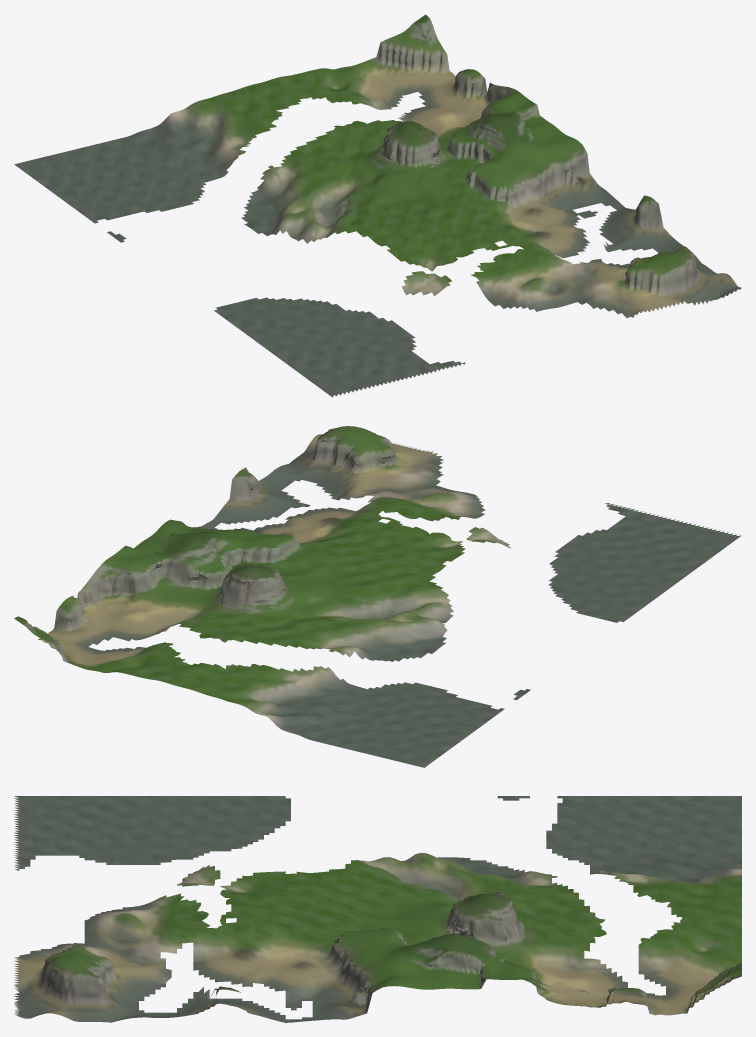
File: coast_tile_x0z1.glb
3 views of the same model, one above another, from view 1: azimuth 30°, elevation 25°; view 2: azimuth 150°, elevation 25°; view 3: azimuth 270°, elevation 25° (orthographic). The views are drawn at different scales.
Parts seen in each view (by area): view 1: coast_tile_x0z1; view 2: coast_tile_x0z1; view 3: coast_tile_x0z1.
Boxes of the visible parts, x1=… form: coast_tile_x0z1: x1=14, y1=14, x2=741, y2=397; coast_tile_x0z1: x1=14, y1=426, x2=741, y2=767; coast_tile_x0z1: x1=14, y1=796, x2=741, y2=1022.
Size of the model in its own units: 600 by 71.53 by 804.
